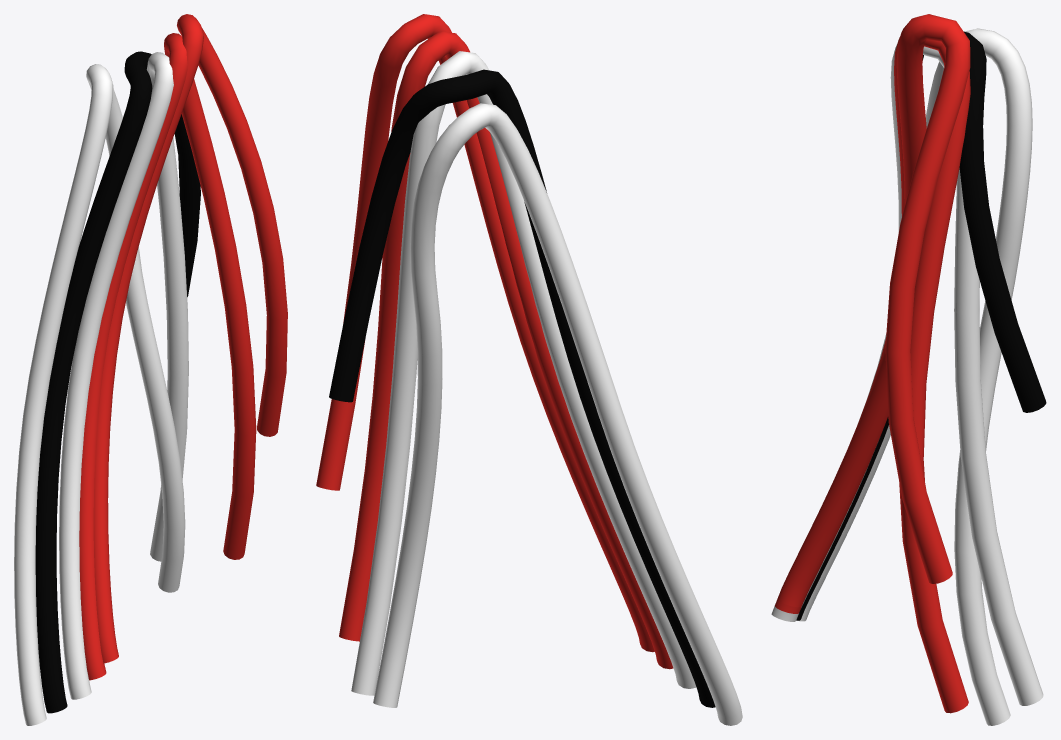
The model's file is Mini-kable2.fbx.
3 renders of one model, left to right at view 1: azimuth 30°, elevation 25°; view 2: azimuth 150°, elevation 25°; view 3: azimuth 270°, elevation 25°, orthographic. The views are drawn at different scales.
Parts seen in each view (by area): view 1: Mini-kable2; view 2: Mini-kable2; view 3: Mini-kable2.
Boxes of the visible parts, x1,y1,x2,y2 form: Mini-kable2: (14,14,287,725); Mini-kable2: (316,14,742,725); Mini-kable2: (771,14,1046,725).
Size of the model in its own units: 9.94 by 18.64 by 6.38.
